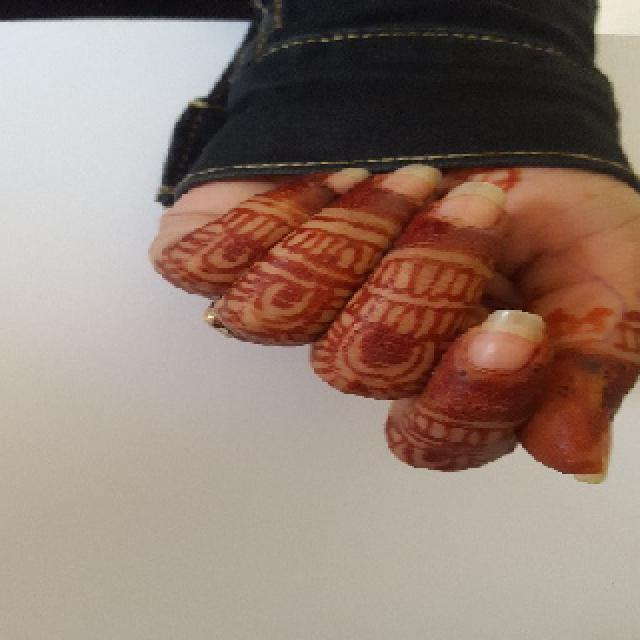Nail: (466, 310, 545, 371), (438, 181, 506, 229), (381, 164, 442, 206), (324, 168, 370, 194)
